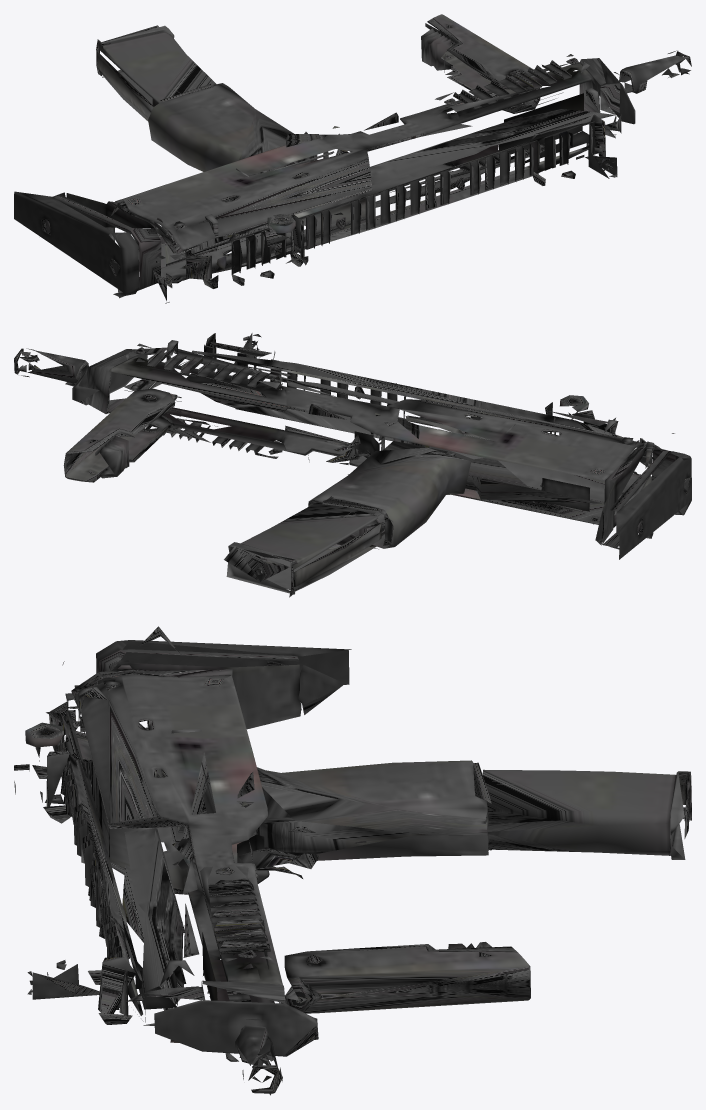
3 renders of one model, top to bottom at view 1: azimuth 30°, elevation 25°; view 2: azimuth 150°, elevation 25°; view 3: azimuth 270°, elevation 25°, orthographic. The views are drawn at different scales.
Parts seen in each view (by area): view 1: p_mp7; view 2: p_mp7; view 3: p_mp7.
Part boxes in pixels (x1,y1,x2,y2): p_mp7: (14, 14, 691, 303); p_mp7: (14, 333, 691, 597); p_mp7: (14, 626, 691, 1095).
Bounding box in the file's own units: 0.5064 × 0.0735 × 0.3389.
1 material, 1 textured.
